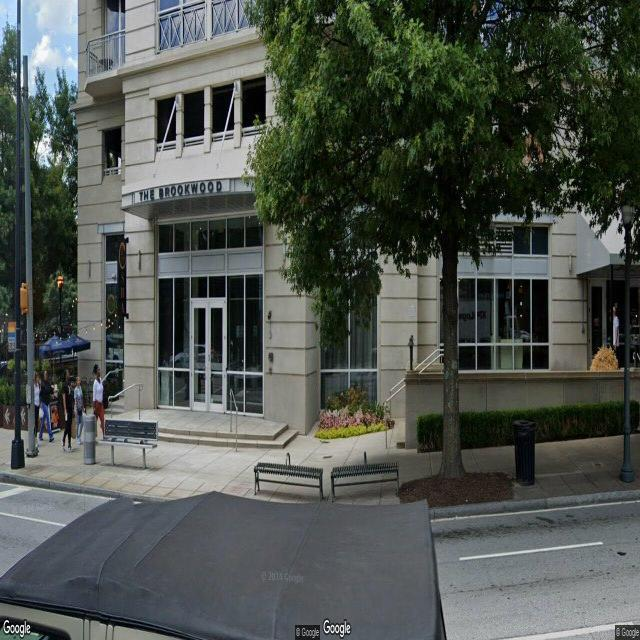seating: (330, 450, 401, 504), (253, 453, 324, 502), (102, 418, 158, 468)
trash_can: (514, 421, 536, 484), (82, 413, 96, 464)
